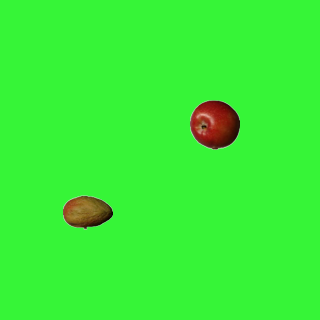Apple Braeburn: (189, 99, 239, 149)
Papaya: (62, 187, 112, 237)
